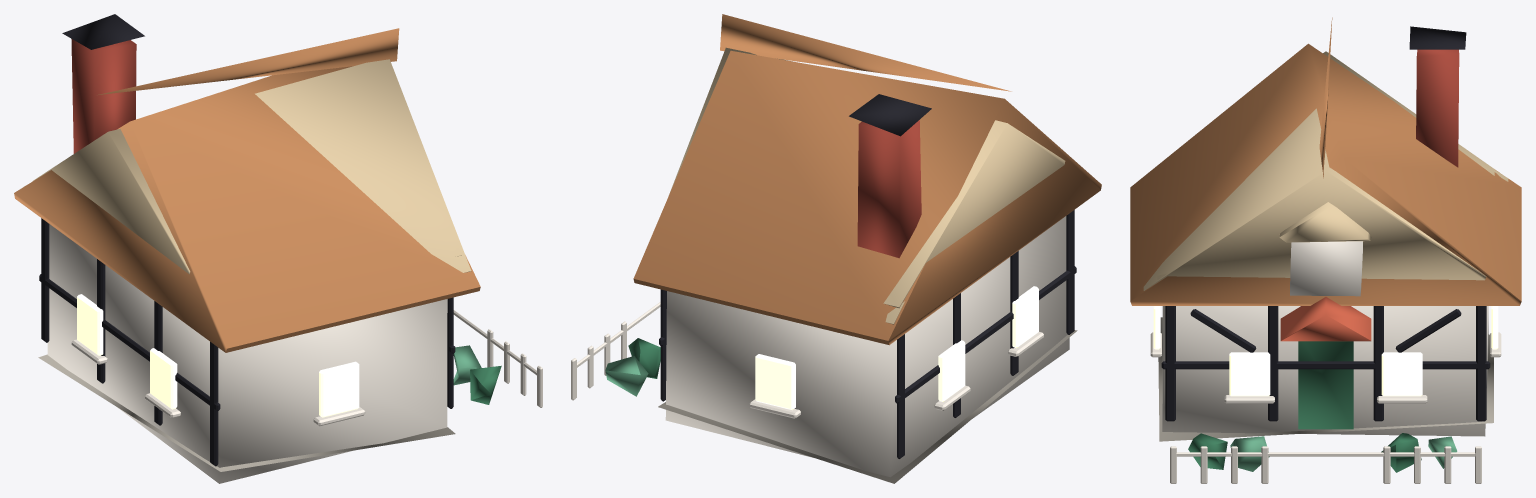
Rendered from cottage.glb.
3 renders of one model, left to right at view 1: azimuth 30°, elevation 25°; view 2: azimuth 150°, elevation 25°; view 3: azimuth 270°, elevation 25°, orthographic. The views are drawn at different scales.
Parts seen in each view (by area): view 1: cottage; view 2: cottage; view 3: cottage.
Part boxes in pixels (x1,y1,x2,y2): cottage: (14,14,542,483); cottage: (571,14,1101,483); cottage: (1130,17,1521,483).
Size of the model in its own units: 6.52 by 5.92 by 6.68.
Materials: 1 (1 with a texture image).
